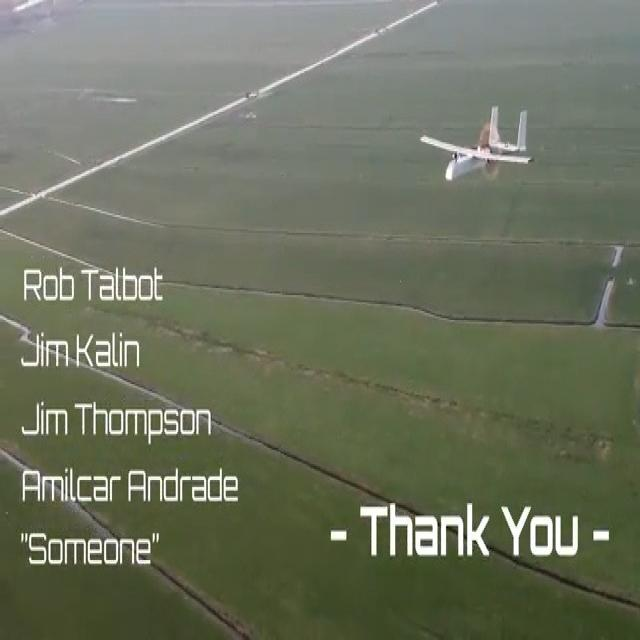iha: (450, 131, 505, 163)
